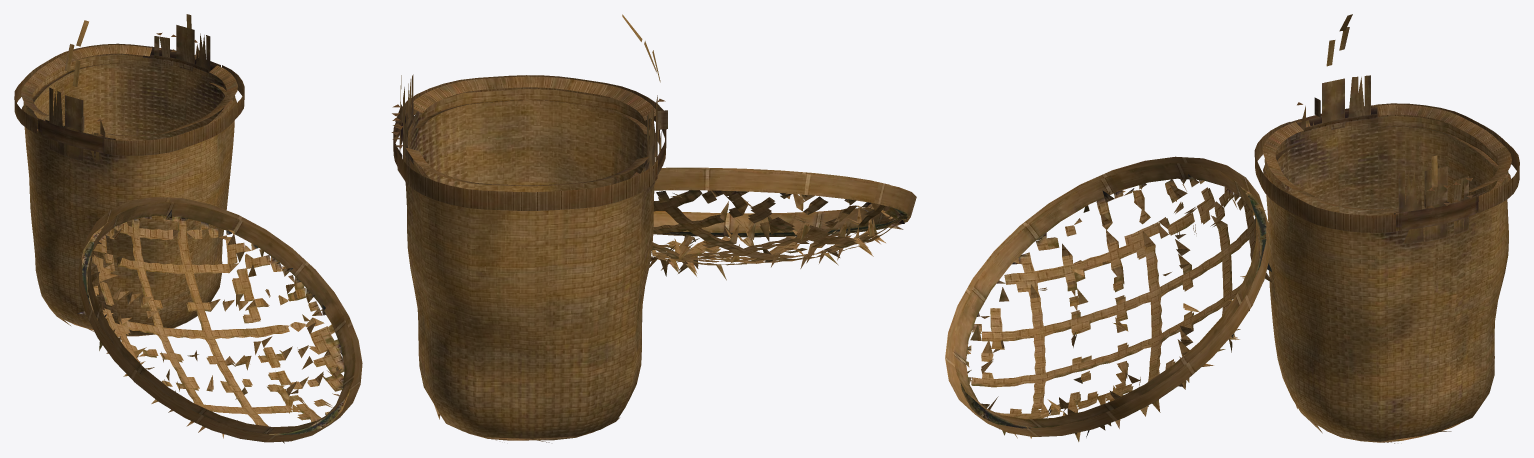
Rendered from basket.glb.
The picture shows the model from 3 angles, left to right: view 1: azimuth 30°, elevation 25°; view 2: azimuth 150°, elevation 25°; view 3: azimuth 270°, elevation 25°; orthographic projection. The views are drawn at different scales.
Visible parts, largest first — view 1: polySurface225, polySurface12; view 2: polySurface225, polySurface12; view 3: polySurface225, polySurface12.
Boxes of the visible parts, x1,y1,x2,y2 form: polySurface225: (14, 14, 244, 336); polySurface12: (77, 196, 362, 443); polySurface225: (391, 14, 667, 442); polySurface12: (649, 167, 916, 280); polySurface225: (1254, 14, 1519, 443); polySurface12: (945, 156, 1271, 441).
Bounding box in the file's own units: 0.9519 × 1.1 × 1.55.
2 materials, 2 textured.
